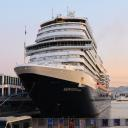cruises: (14, 6, 113, 120)
